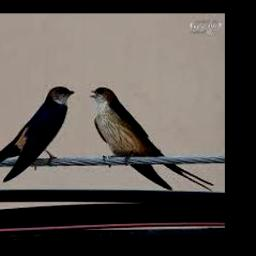Swallow: (90, 88, 215, 190), (0, 86, 75, 188)
